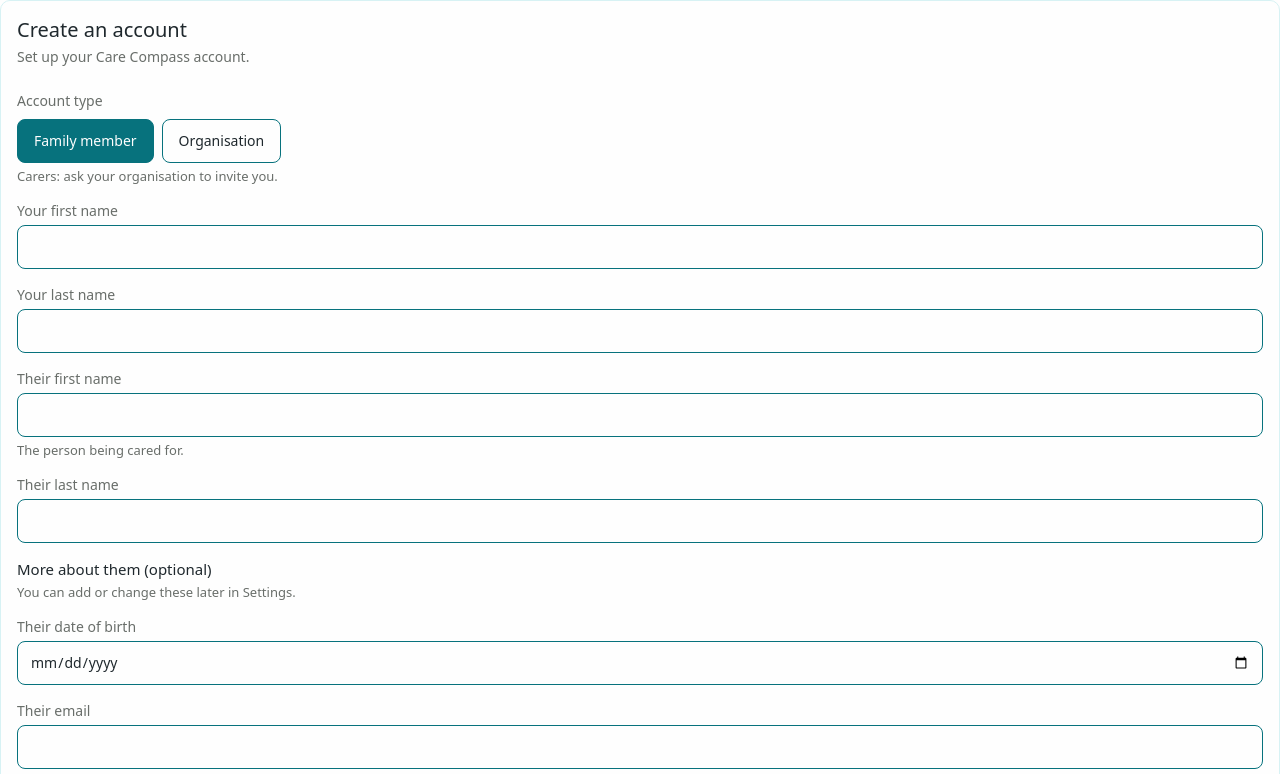
[F0-28] sign-up 'More about them' › [F0-28][AC-01] organisation sign-up does not show the group
Click the radio button labelled "Organisation" at x=221, y=141, box [162,119,281,163]
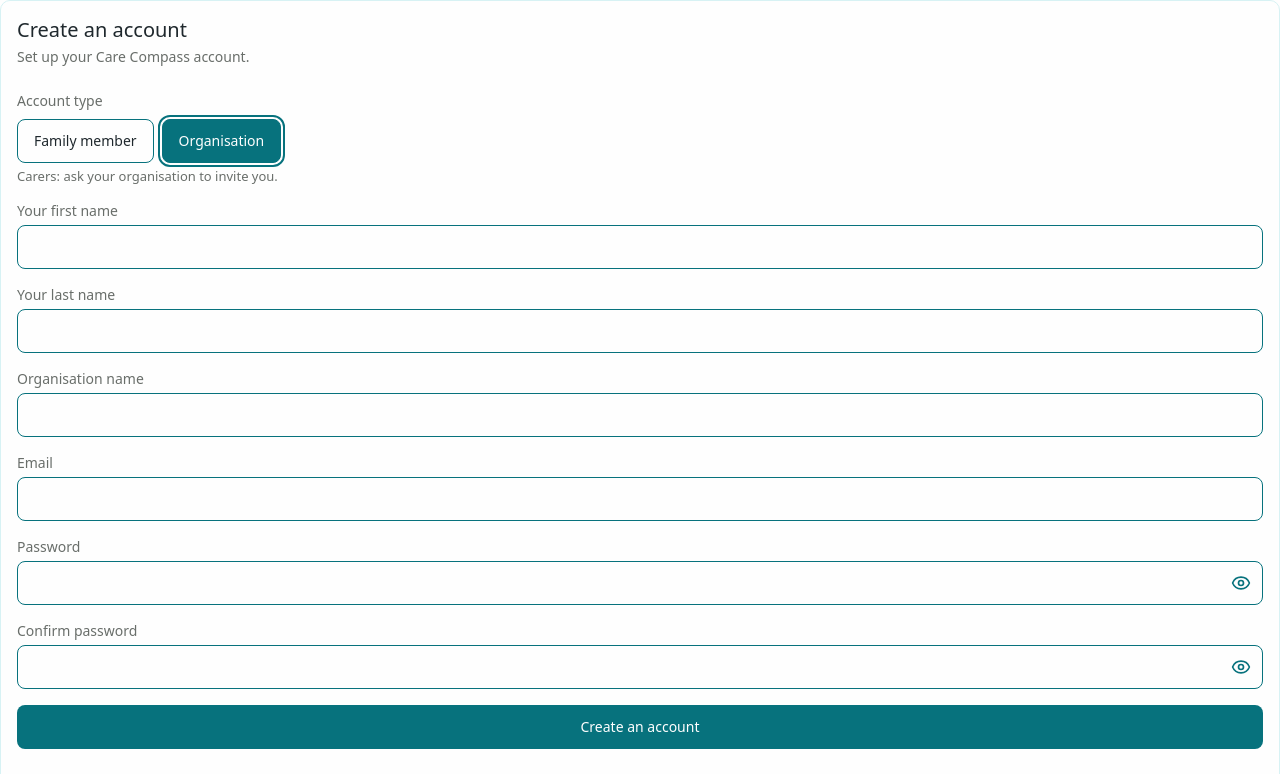
Check: the text "More about them" is gone
